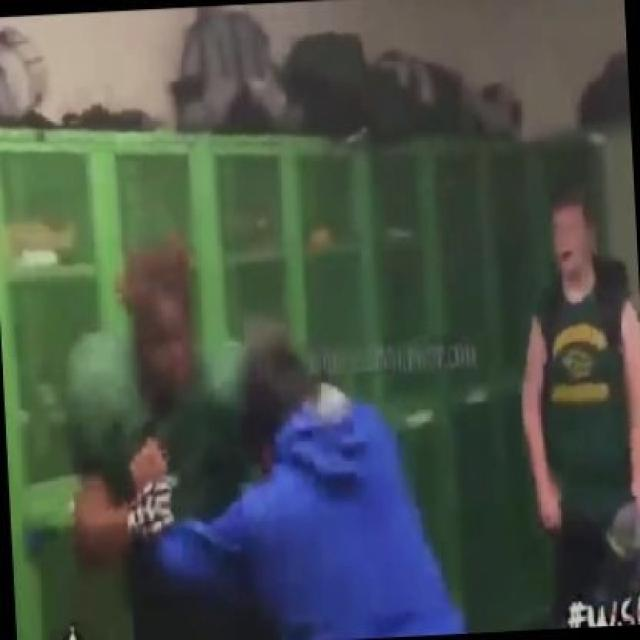fight: (55, 218, 473, 640)
non-fight: (528, 190, 636, 634)
